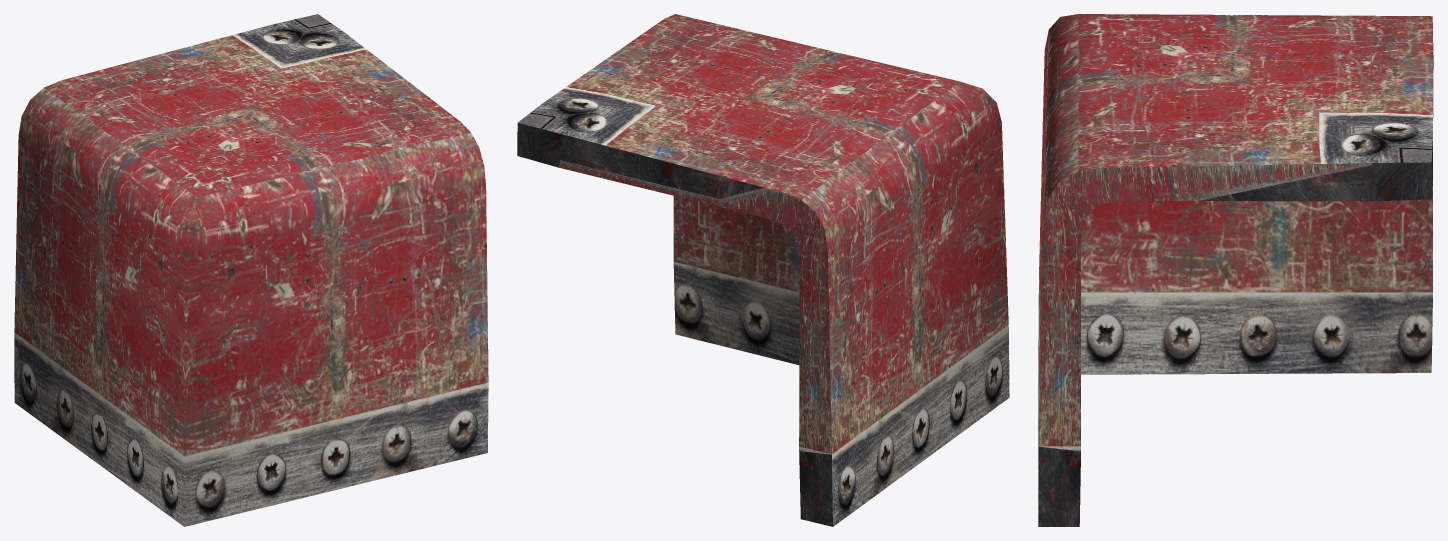
Rendered from MOD_WallProtectCorner_A.FBX.
The picture shows the model from 3 angles, left to right: view 1: azimuth 30°, elevation 25°; view 2: azimuth 150°, elevation 25°; view 3: azimuth 270°, elevation 25°; orthographic projection. The views are drawn at different scales.
Visible parts, largest first — view 1: MOD_WallProtectCorner_A; view 2: MOD_WallProtectCorner_A; view 3: MOD_WallProtectCorner_A.
Boxes of the visible parts, bbox=[...] form: MOD_WallProtectCorner_A: bbox=[14, 14, 488, 526]; MOD_WallProtectCorner_A: bbox=[517, 14, 1009, 526]; MOD_WallProtectCorner_A: bbox=[1038, 14, 1433, 526].
Size of the model in its own units: 56.41 by 56.53 by 54.68.
1 material, 1 textured.
